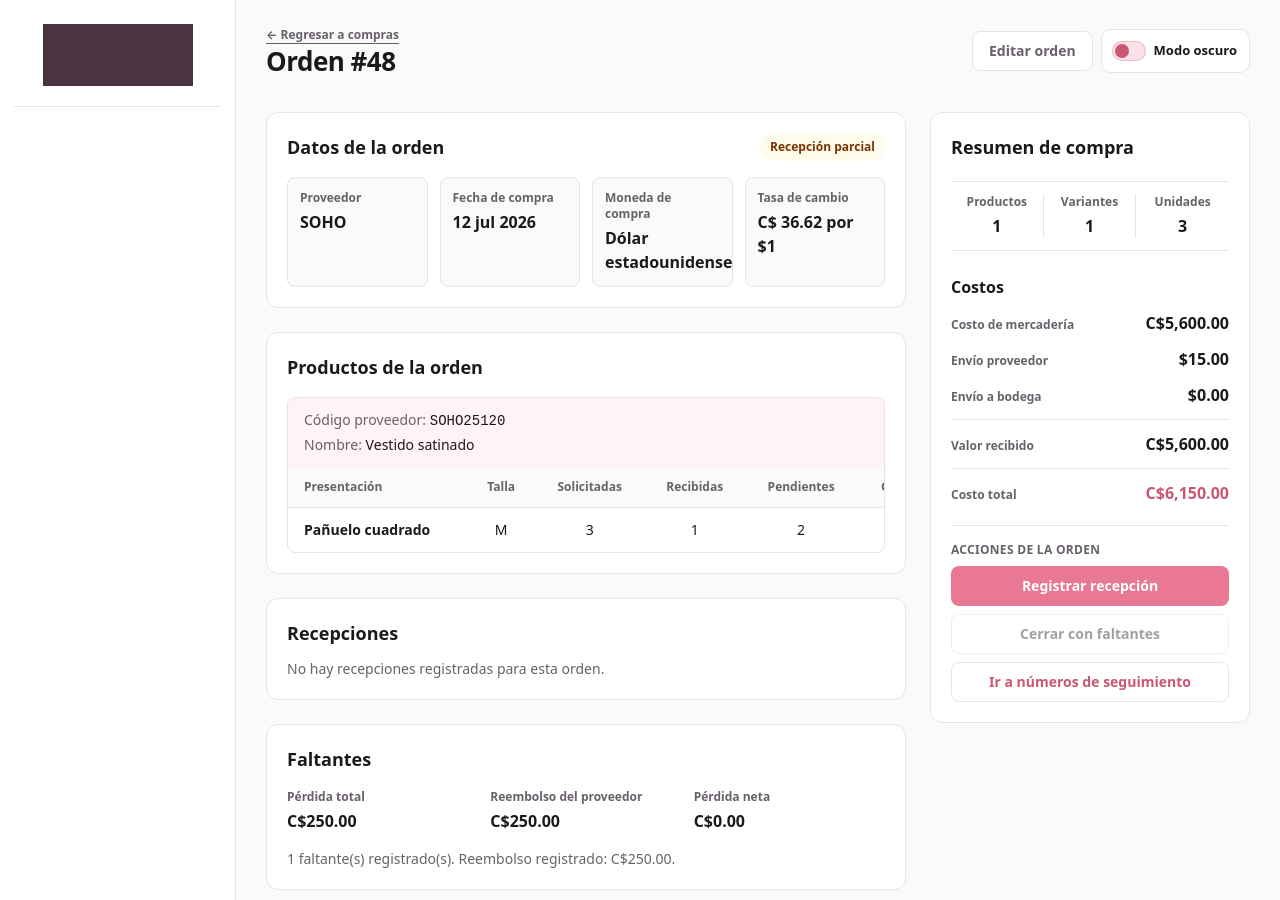
it: PurchaseOrderDetailPage › places the single detail title and working back link in the shell header
The width and height of the screenshot is (1280, 900).
Expected: the text "Vestido satinado" is shown, [366,435,474,454]
Expected: the heading "Orden #48" is shown, [266,47,399,76]
Click the link "← Regresar a compras": coordinates (332, 35) [266,26,399,44]
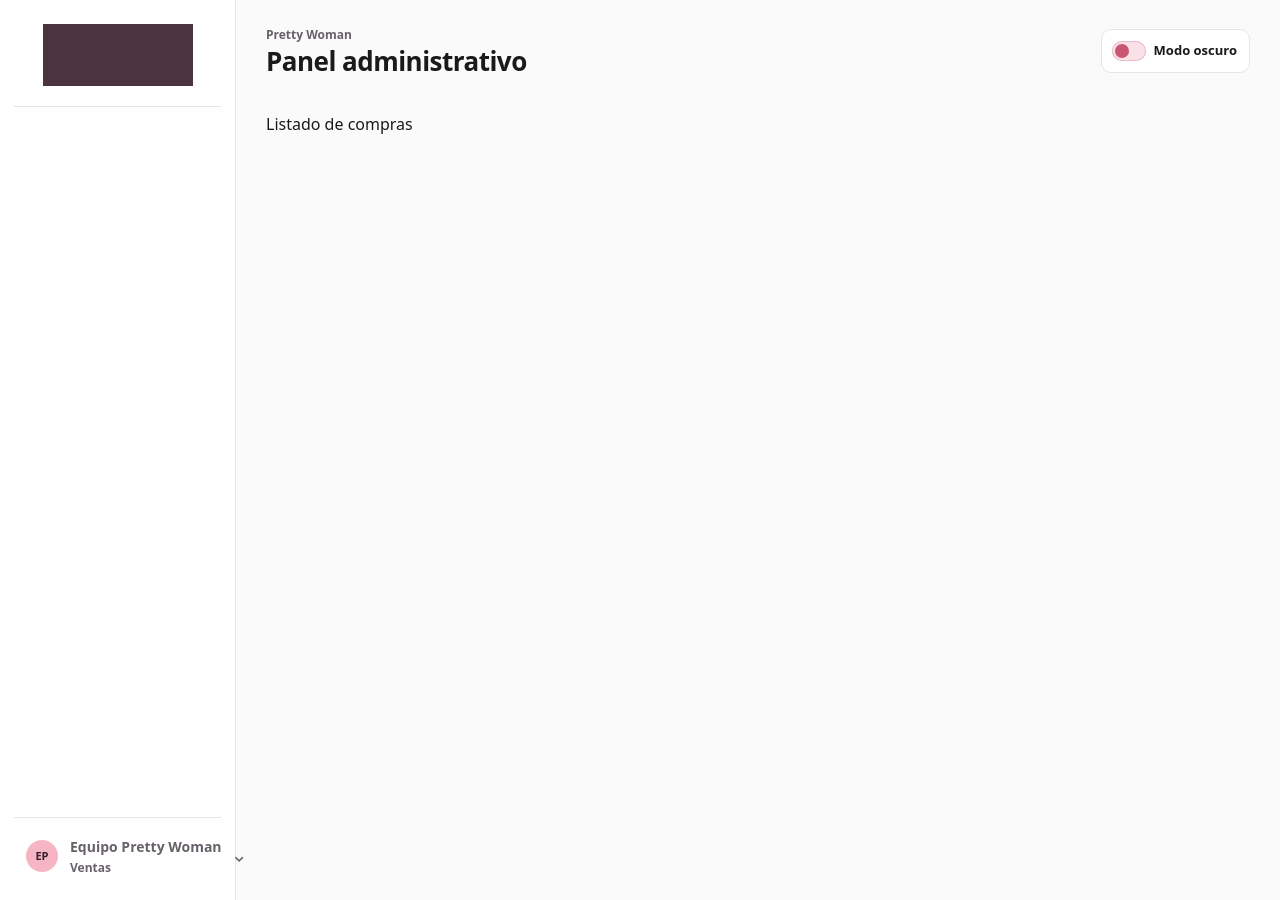
Expected: the text "Listado de compras" is shown, [266,113,413,135]
Expected: the heading "Orden #48" is gone
Expected: the link "Regresar a compras" is gone
